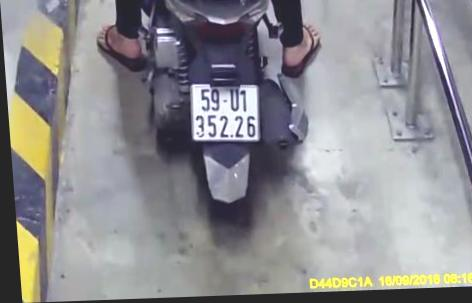License_Plate: (182, 78, 268, 149)
